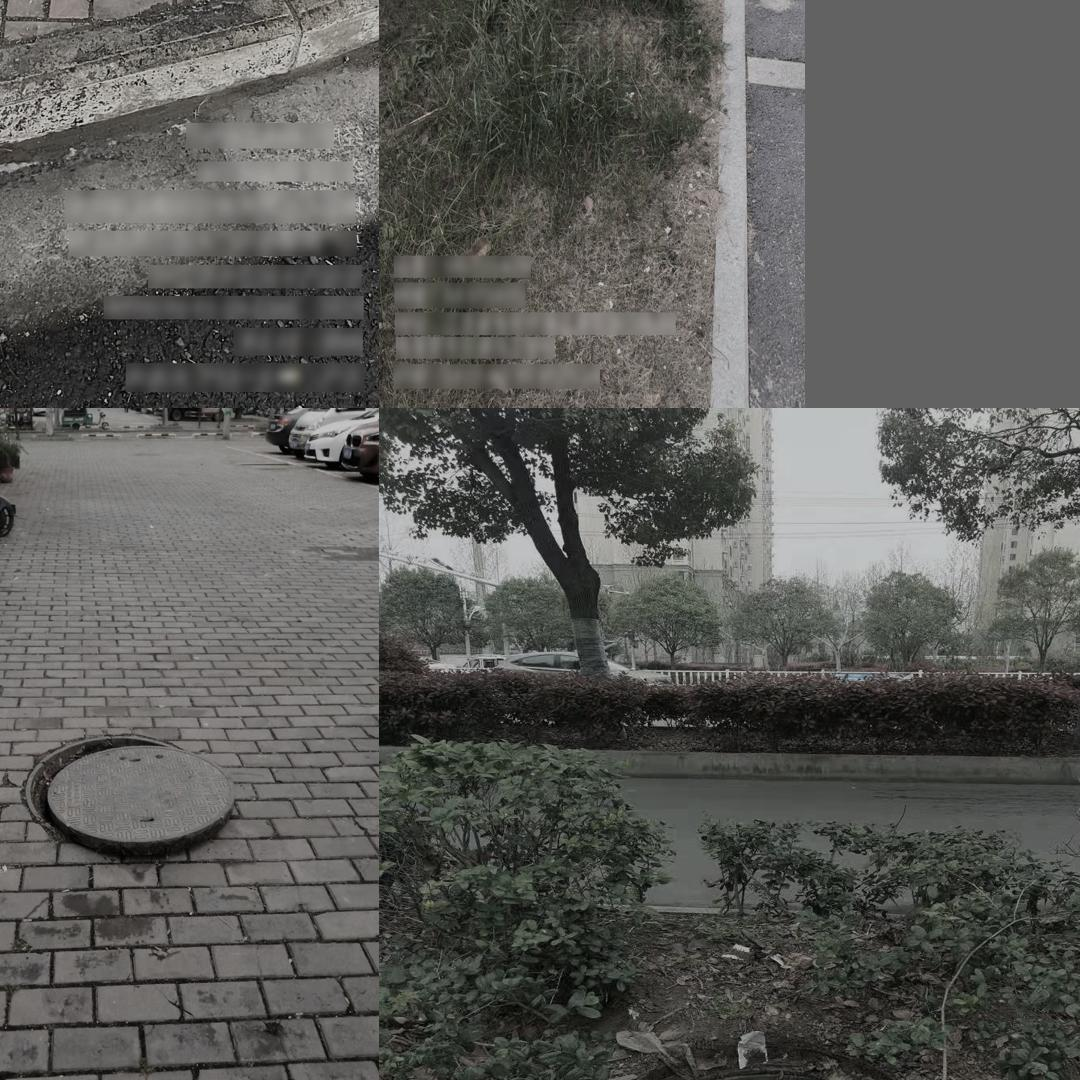uncovered: (7, 721, 240, 870), (581, 1042, 946, 1080)
